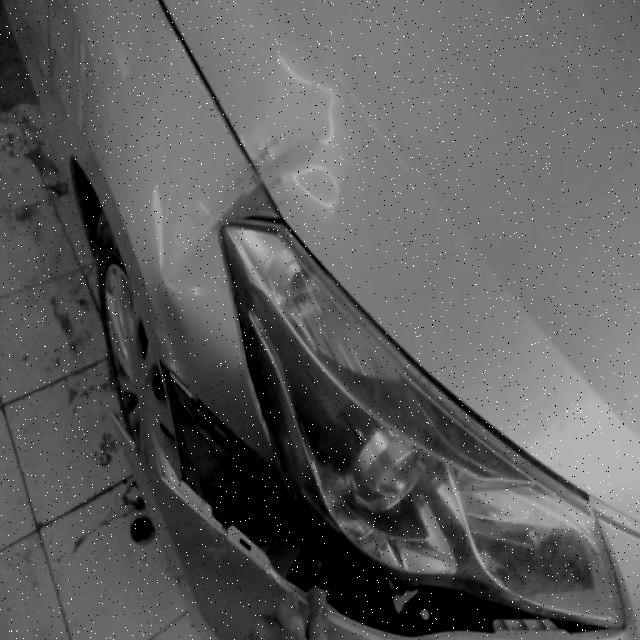car damage: (120, 357, 624, 640), (161, 59, 354, 293)
